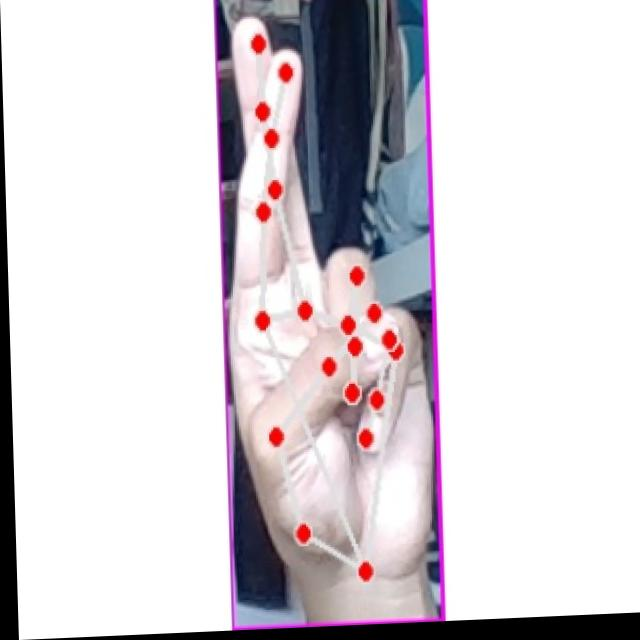R: (218, 1, 428, 608)
